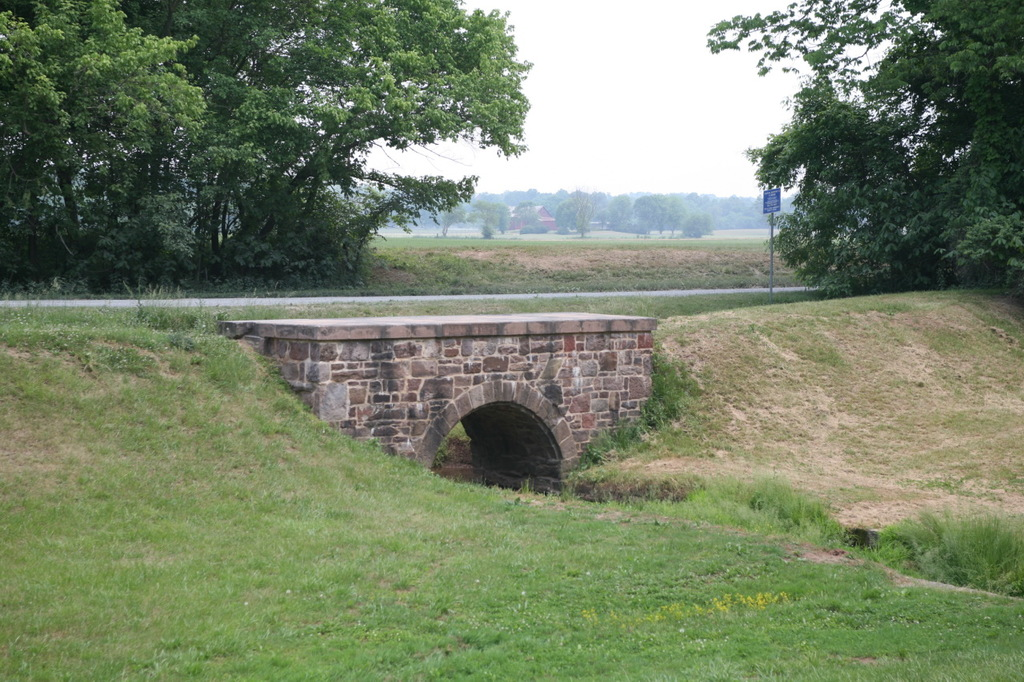Tree: (0, 0, 543, 302), (702, 0, 1023, 291), (634, 190, 672, 235), (478, 197, 508, 238), (606, 189, 635, 231), (685, 206, 714, 244), (573, 198, 596, 238), (551, 197, 573, 238)
